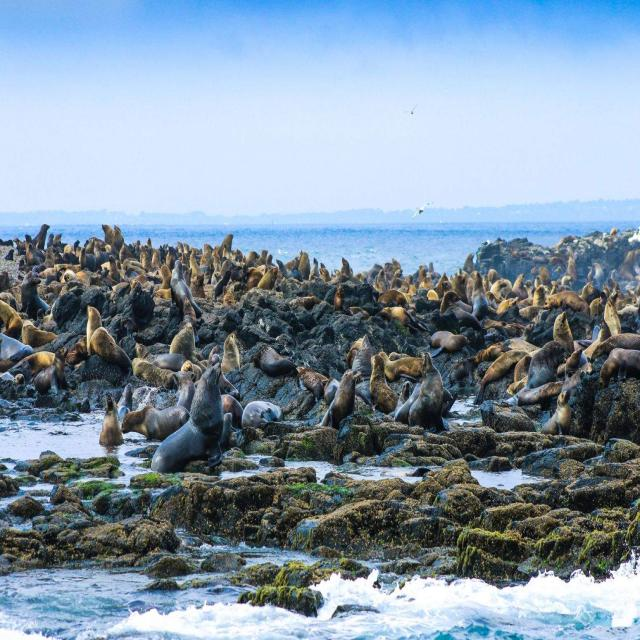WaterDog: (152, 363, 224, 480), (86, 302, 131, 376), (410, 352, 447, 427), (320, 368, 361, 428), (18, 271, 56, 325), (368, 352, 398, 417), (172, 258, 202, 318), (542, 387, 576, 437), (552, 310, 579, 354), (429, 329, 472, 356)
